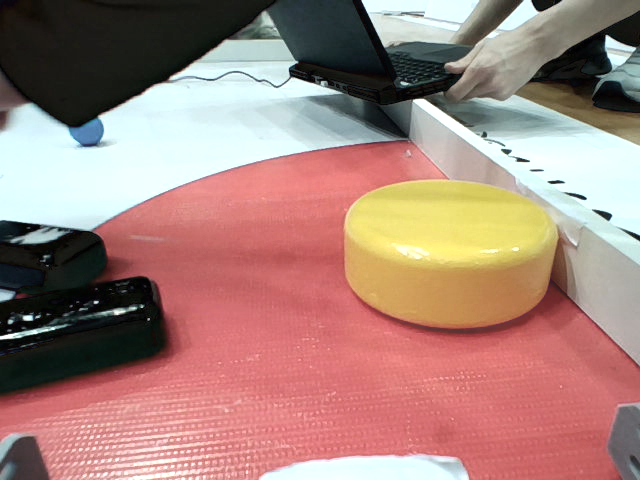black: (1, 279, 180, 397), (1, 189, 123, 286)
yellow: (317, 173, 569, 341)
